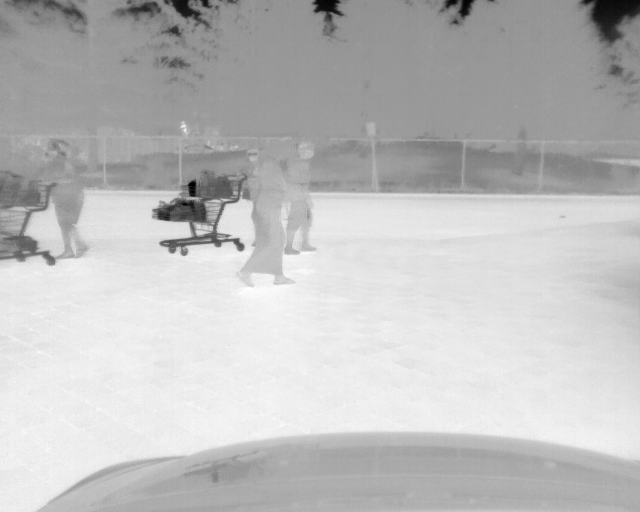people: (236, 142, 295, 289), (34, 137, 93, 263), (286, 141, 320, 256)
